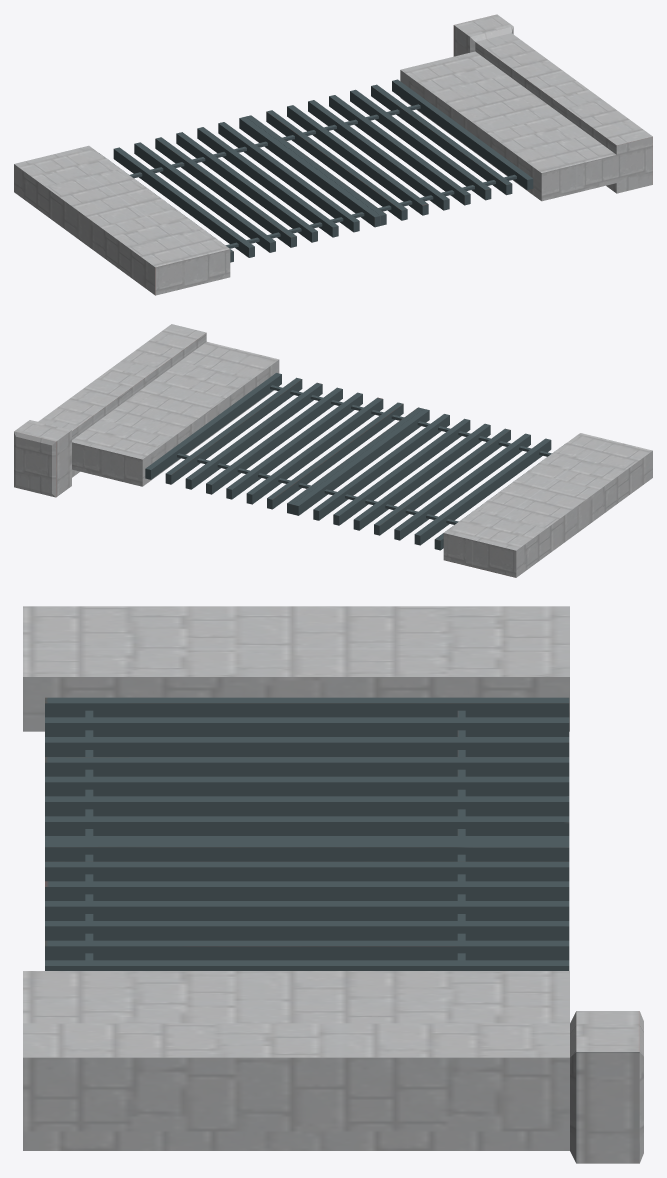
Rendered from fence-gate.obj.
3 views of the same model, one above another, from view 1: azimuth 30°, elevation 25°; view 2: azimuth 150°, elevation 25°; view 3: azimuth 270°, elevation 25° (orthographic). The views are drawn at different scales.
Visible parts, largest first — view 1: fence-gate_Plane.180; view 2: fence-gate_Plane.180; view 3: fence-gate_Plane.180.
Boxes of the visible parts, x1,y1,x2,y2 form: fence-gate_Plane.180: (14, 14, 652, 295); fence-gate_Plane.180: (14, 324, 652, 577); fence-gate_Plane.180: (23, 606, 643, 1163).
Size of the model in its own units: 2.17 by 0.2394 by 1.2.
